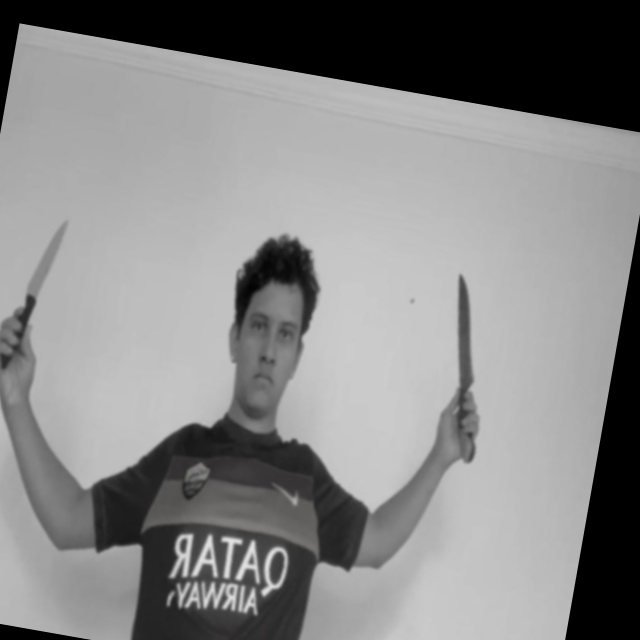Sharp-Object: (439, 272, 491, 390), (28, 217, 68, 299)
